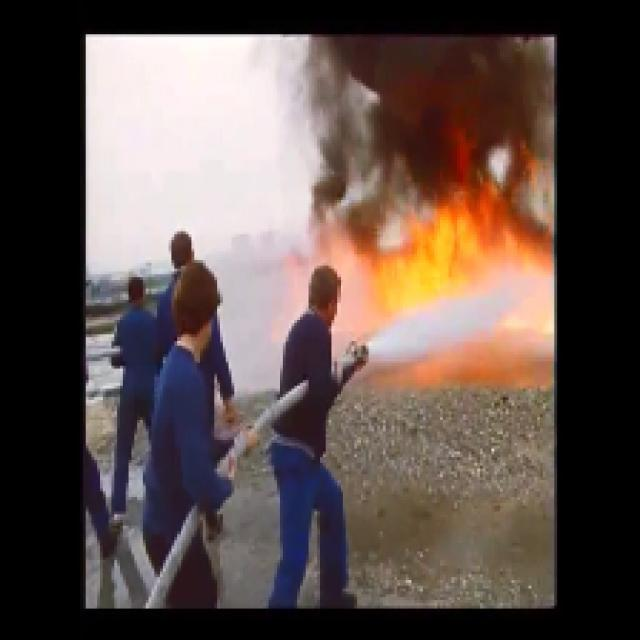Fire: (365, 230, 468, 304)
Smoke: (334, 41, 546, 128), (382, 134, 459, 208)
